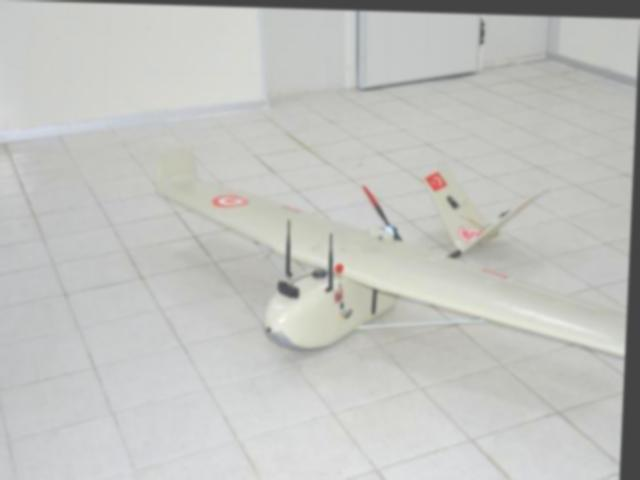iha: (157, 160, 635, 355)
